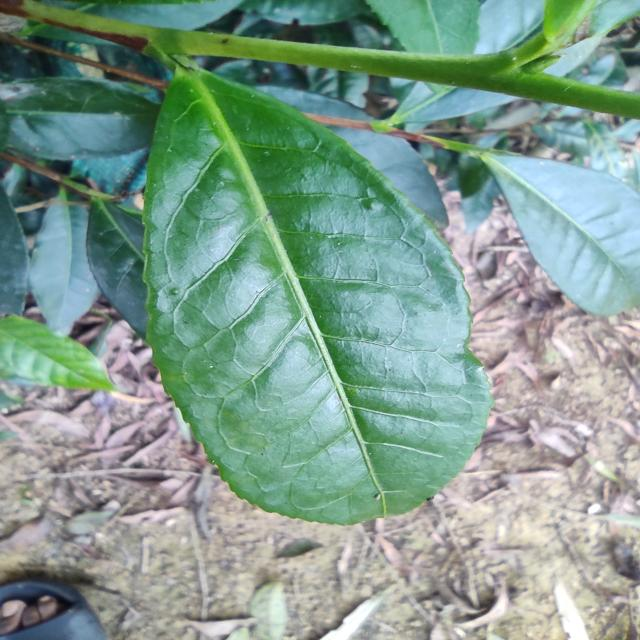Category D 7+ days, Not for Tea: (82, 61, 544, 546)
